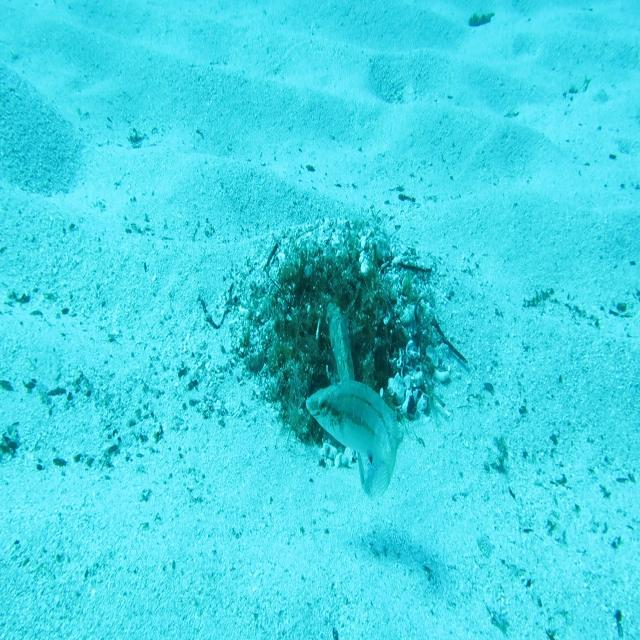FAN: (324, 298, 366, 488)
core_nest: (304, 271, 358, 300)
female: (304, 377, 406, 502)
nest: (223, 208, 455, 480)
vegetation: (468, 7, 495, 28)
